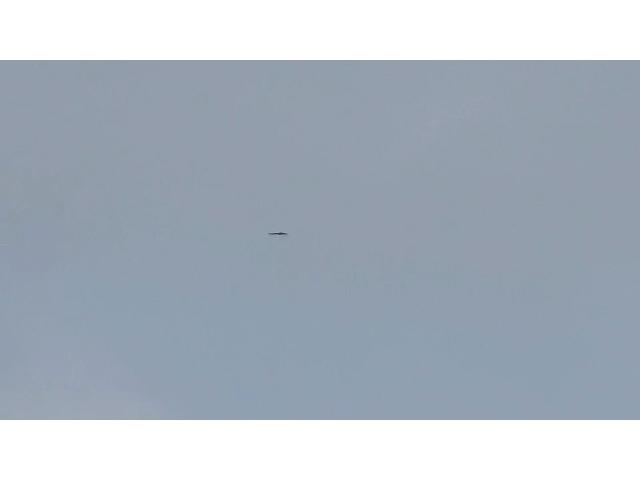Anti-Drone: (268, 230, 288, 236)
